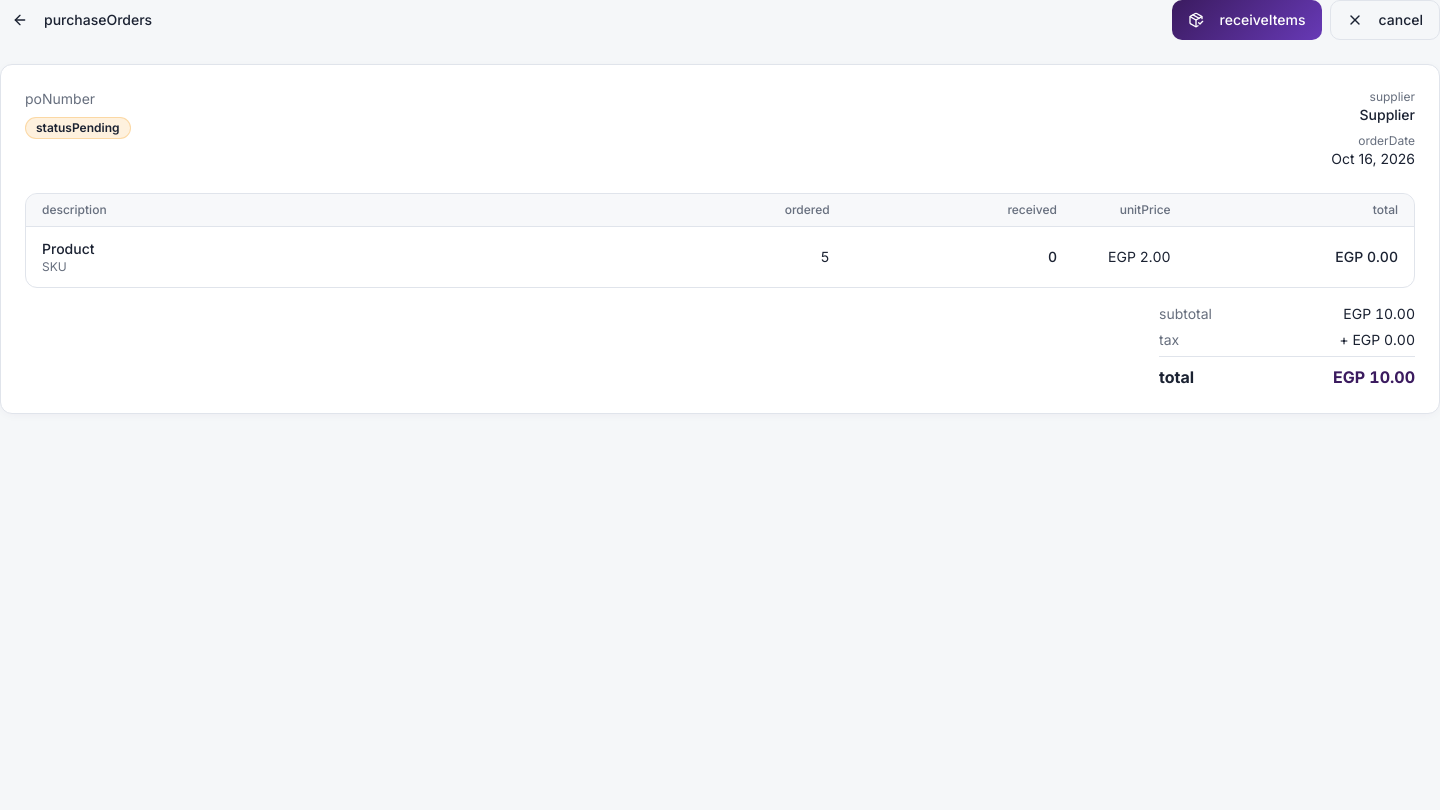
Scenario: inventory mutation single-flight boundaries › retains receipt form and guards dismissal while pending
Later steps or results of the test are not shown.
Click the button "receiveItems" at (1247, 20), box [1172,0,1322,40]
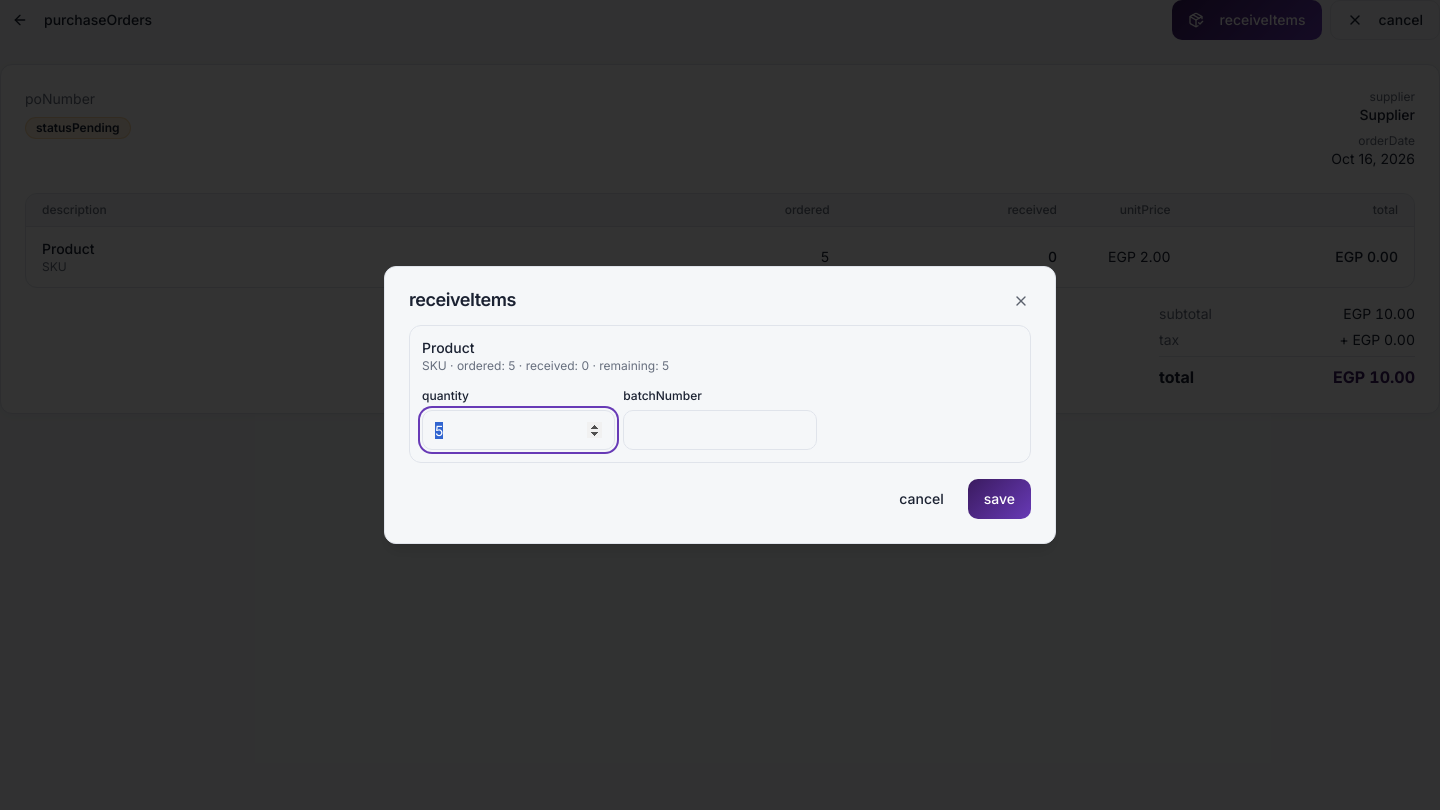
Replace the text in the number field with "1" at (519, 430), box [422,410,615,450]
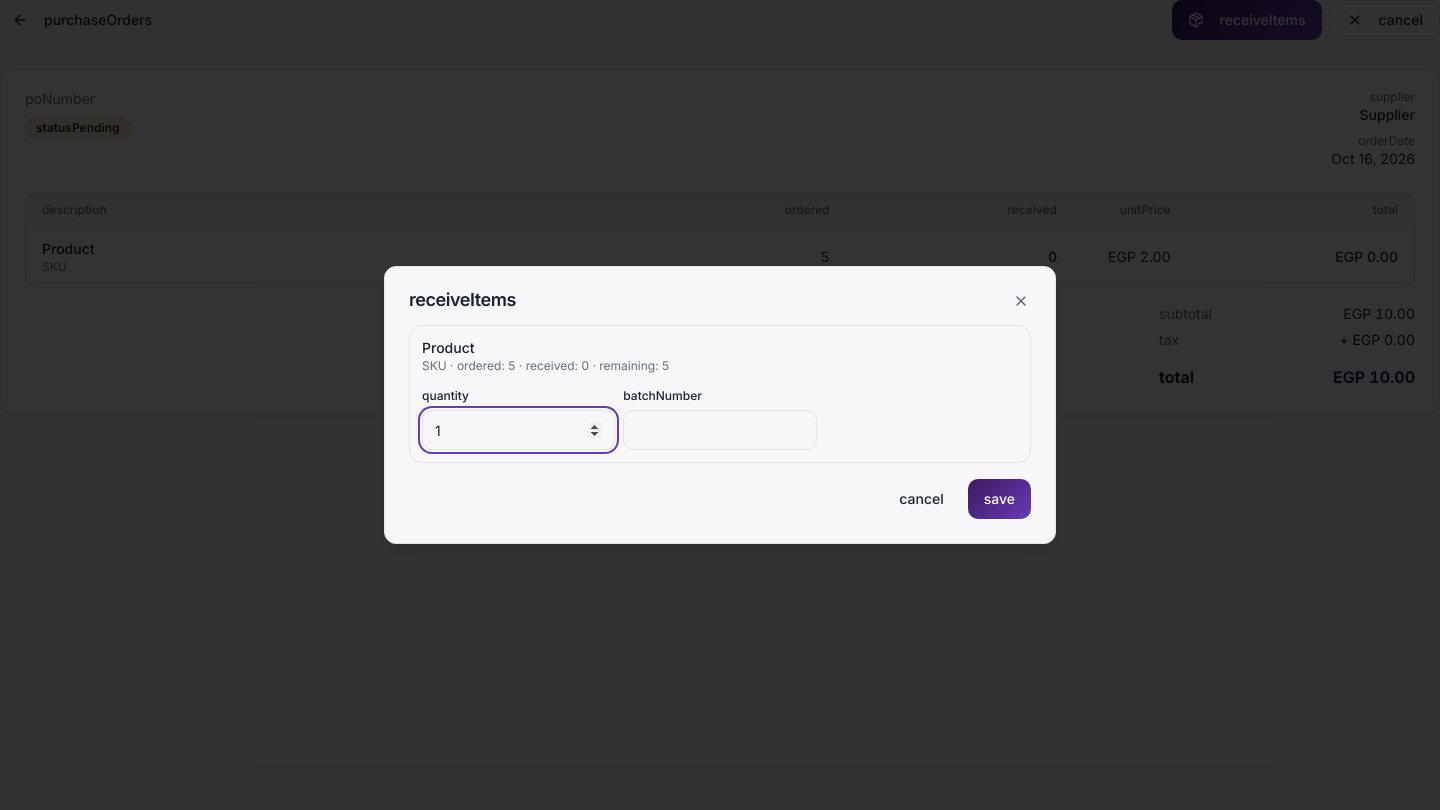
Click the button "save" at (999, 499), box [968,479,1031,519]
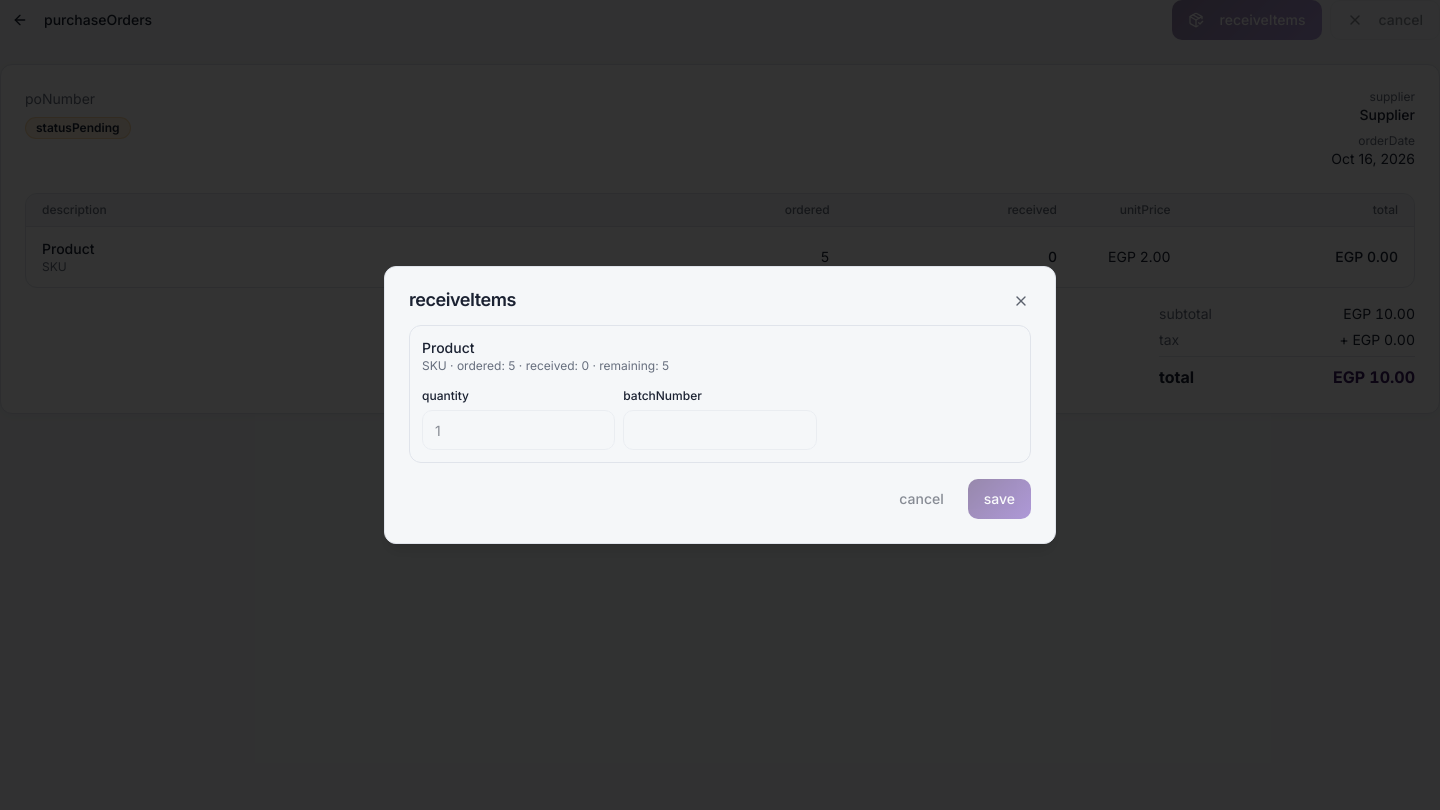
Press Escape in the dialog, box [384,266,1056,544]
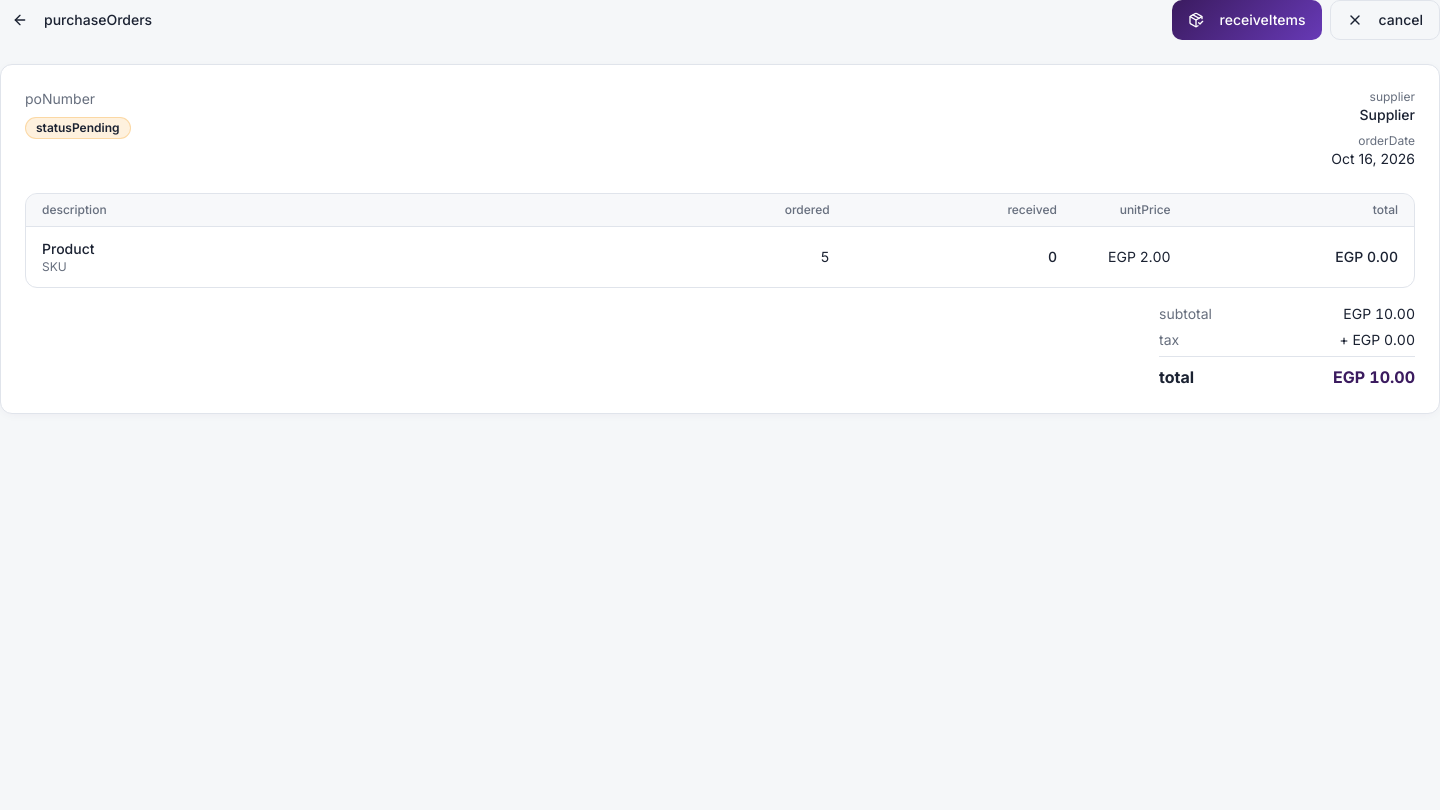
Expected: the dialog is gone
